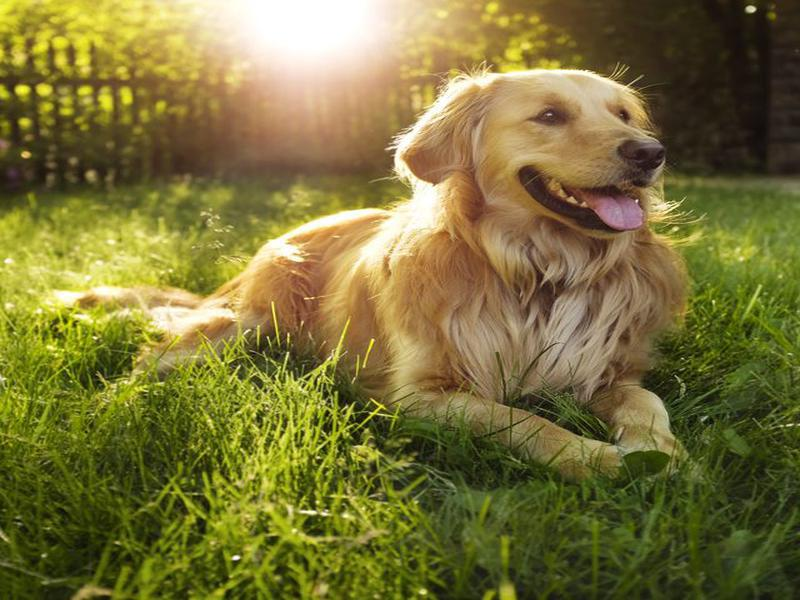dog: (46, 60, 702, 486)
